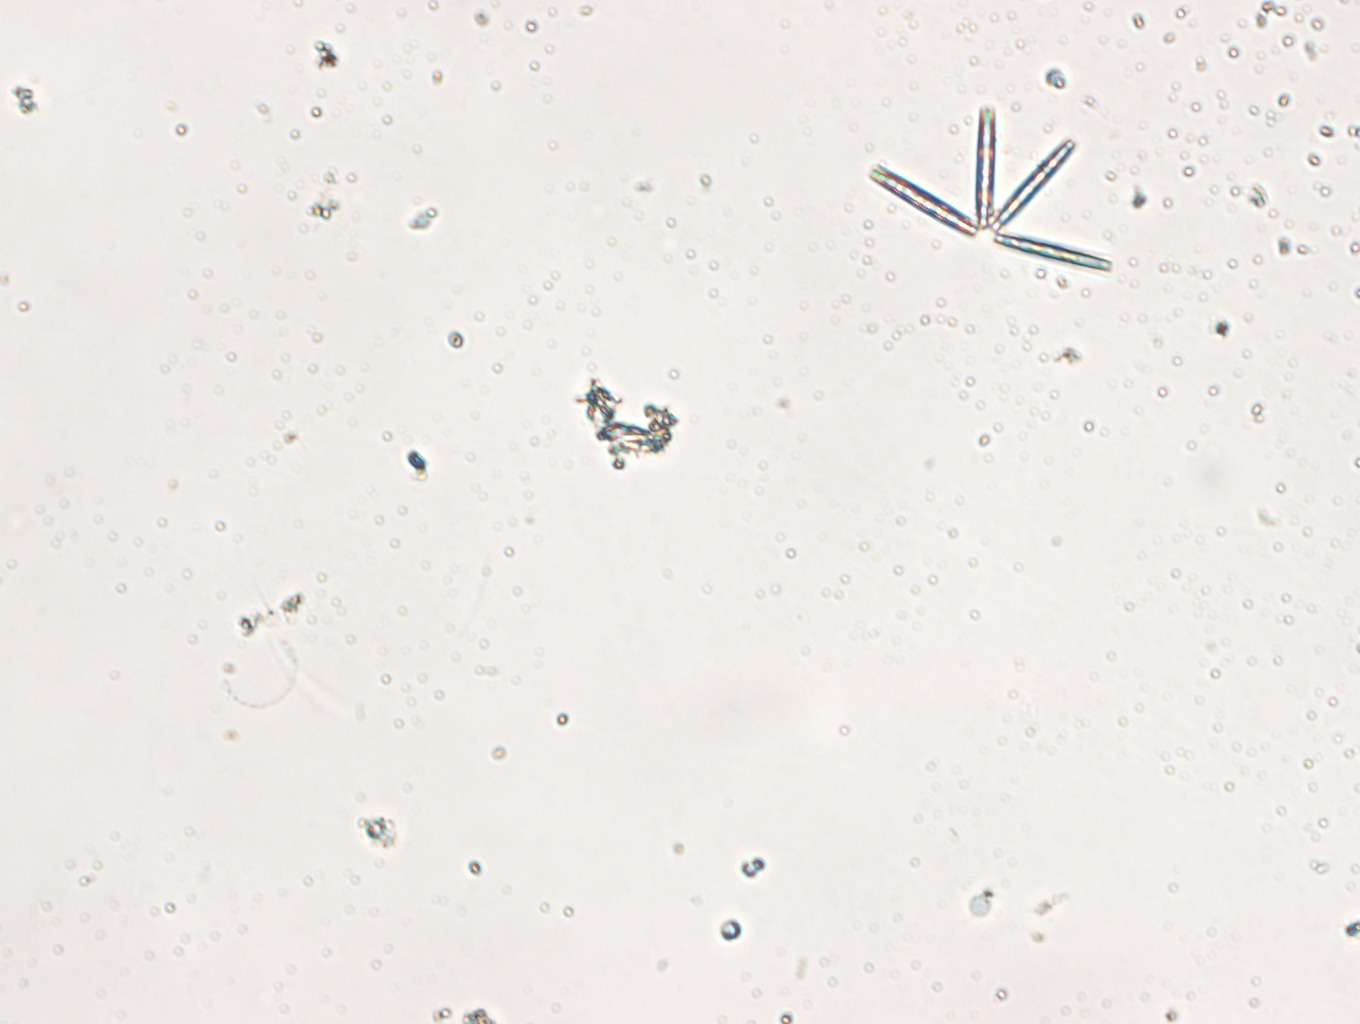thalassionema nitzschioides: (867, 102, 1117, 273)
